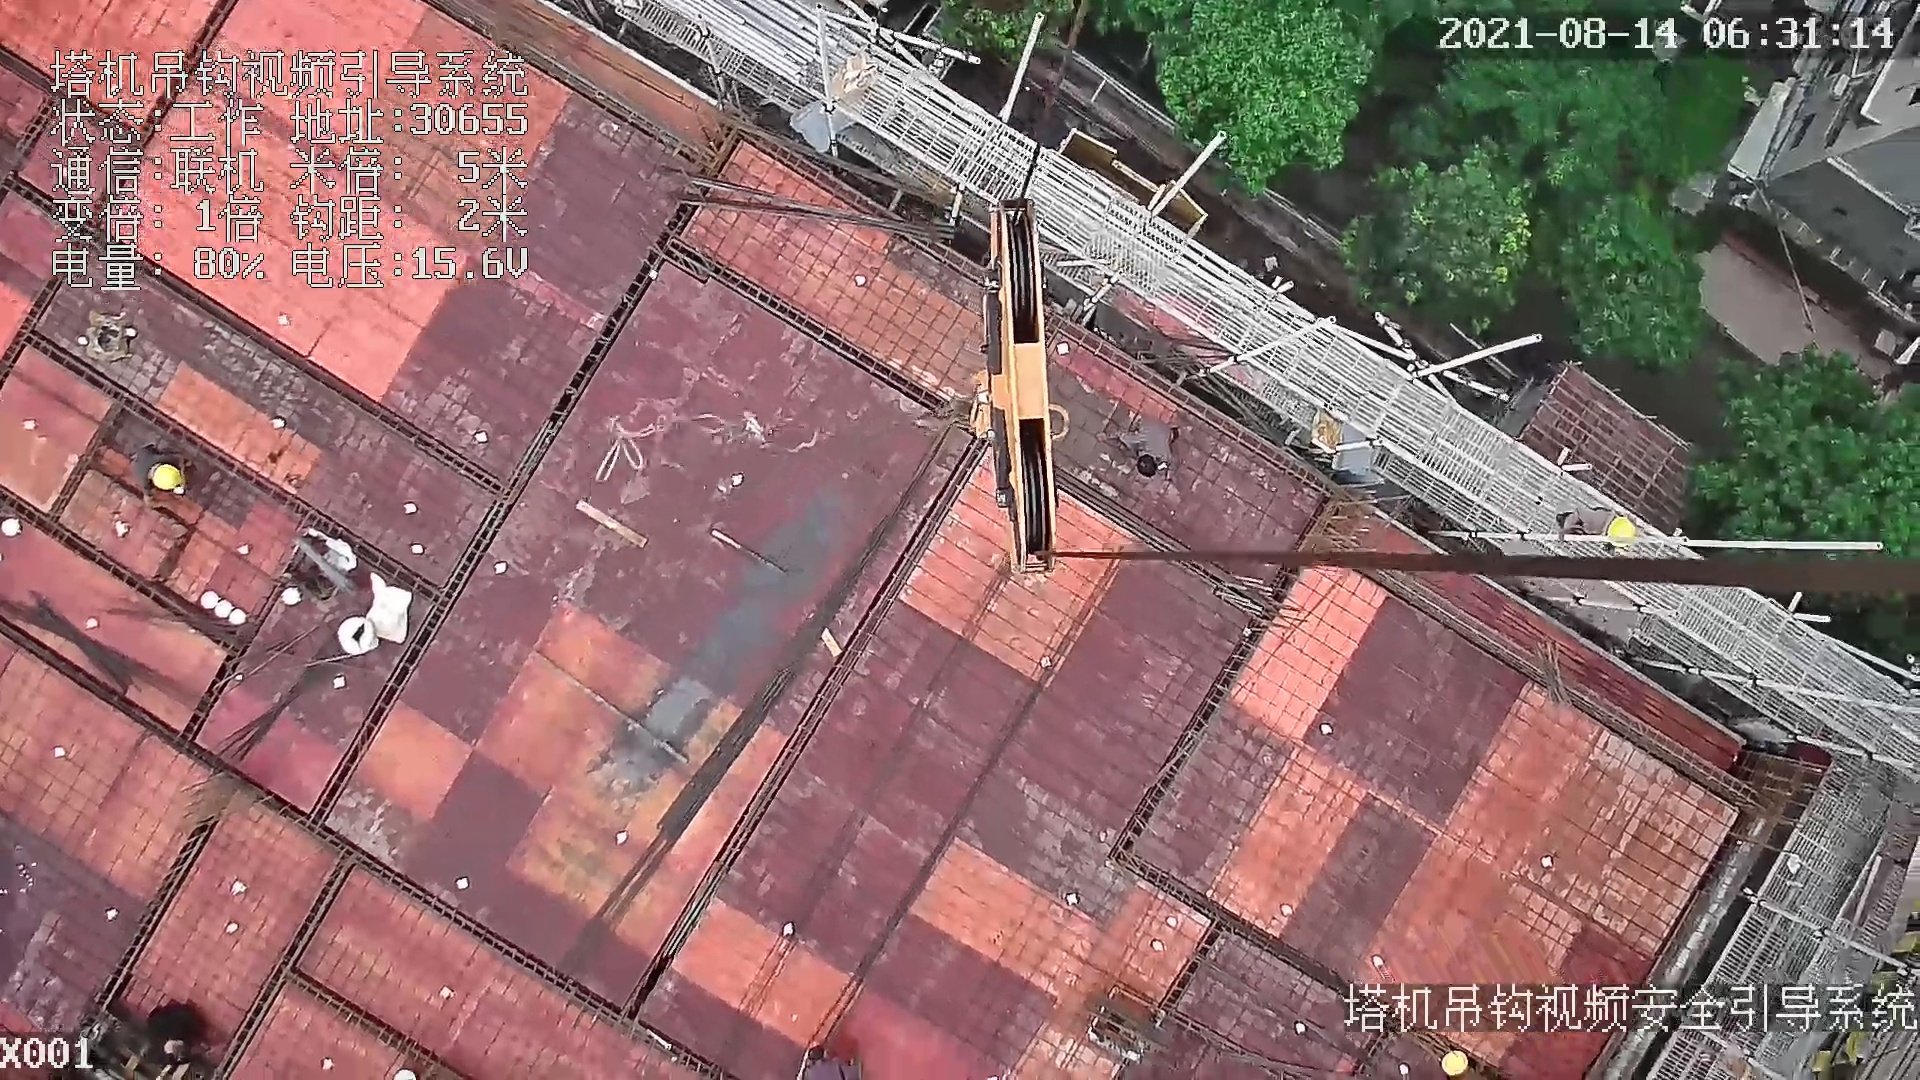helmet: (1436, 1047, 1474, 1080), (1607, 517, 1636, 550), (150, 464, 182, 491)
hook: (970, 192, 1058, 576)
person: (1553, 495, 1642, 554), (128, 437, 191, 497)
